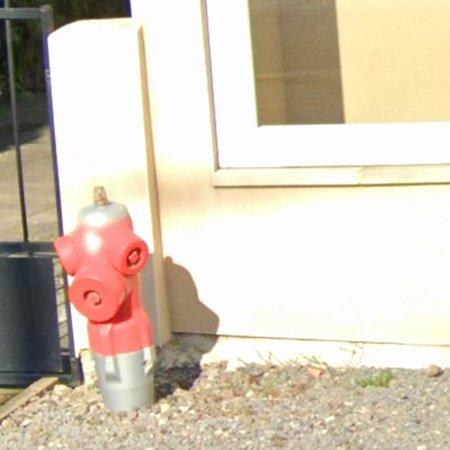a fire hydrant: (54, 187, 155, 412)
